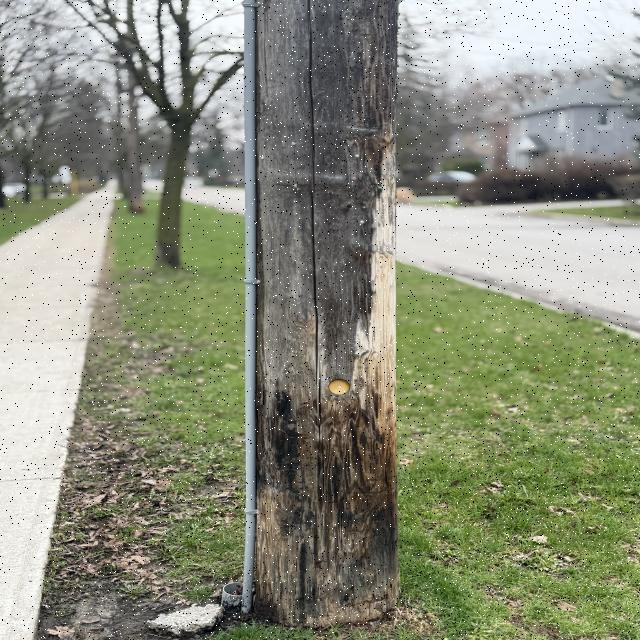Electrical Pole: (243, 0, 416, 637)
